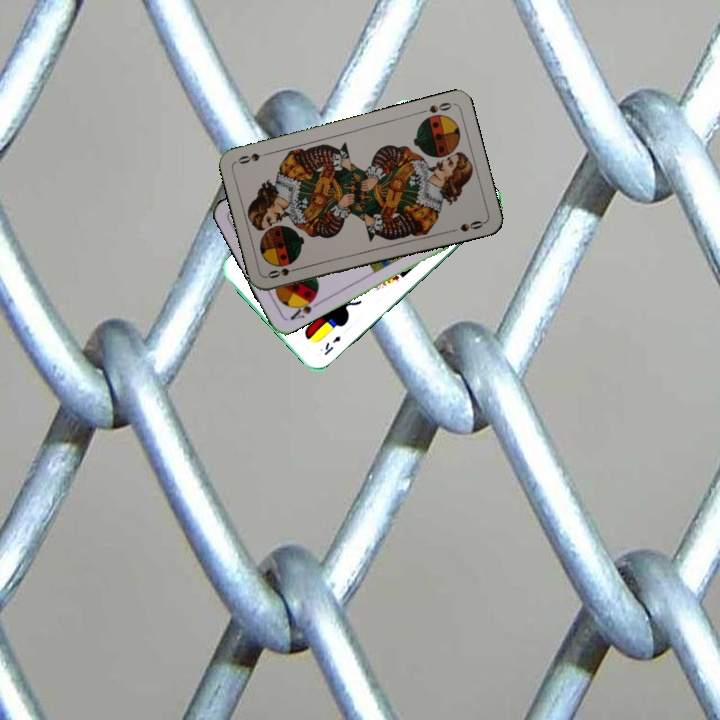EK: (320, 332, 343, 357)
SA: (286, 293, 322, 323)
SO: (263, 263, 304, 281), (415, 98, 454, 116)
